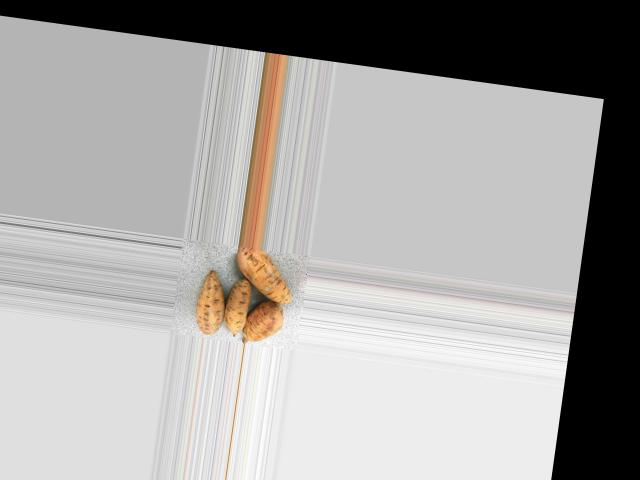sweet_potato: (224, 244, 303, 305)
